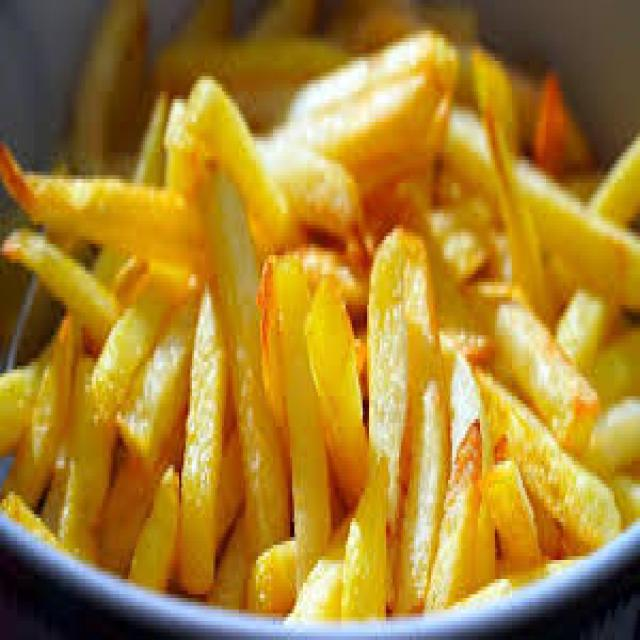Potato: (0, 0, 640, 621)
